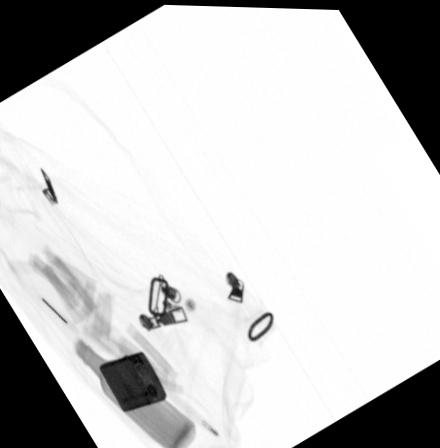Lighter: (98, 349, 168, 413)
